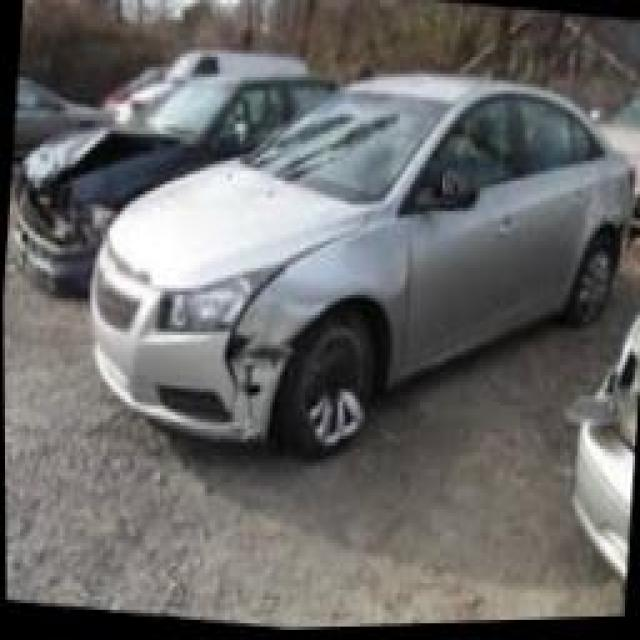Fender: (226, 217, 414, 444), (574, 185, 629, 266)
